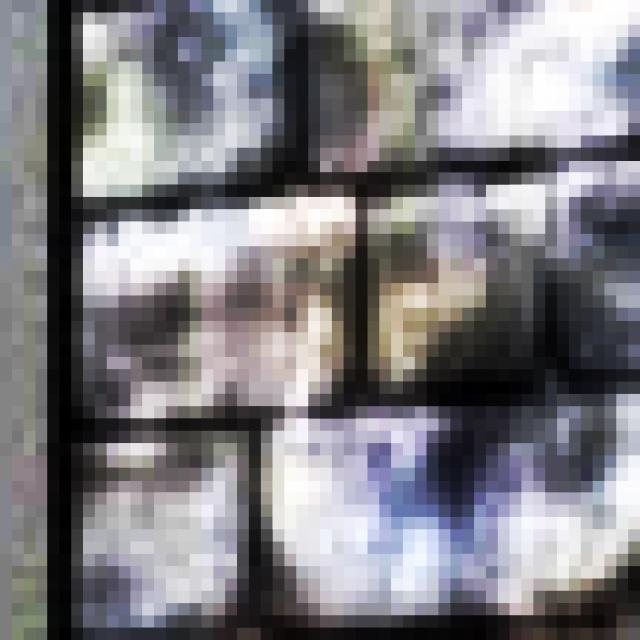arms: (0, 283, 640, 640)
